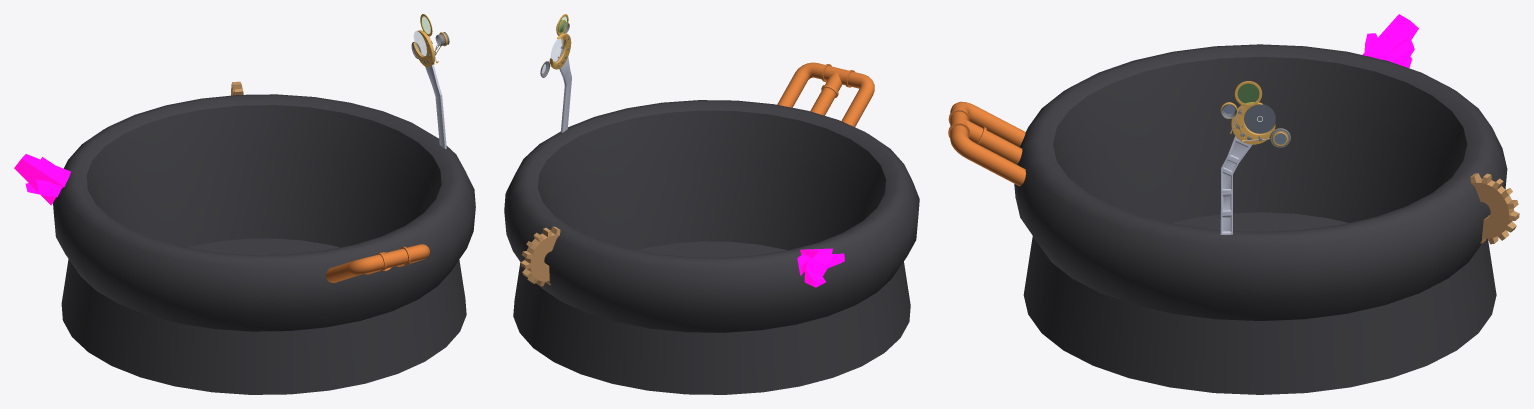
Rendered from GlobeCrateleWithStarscope.fbx.
3 views of the same model, side by side, from view 1: azimuth 30°, elevation 25°; view 2: azimuth 150°, elevation 25°; view 3: azimuth 270°, elevation 25° (orthographic). The views are drawn at different scales.
Parts seen in each view (by area): view 1: Cylinder.002, Plane, Cube.009, Cube.008; view 2: Cylinder.002, Plane, Cube.009, Cylinder.104, Cube.008; view 3: Cylinder.002, Plane, Cube.009, Cylinder.104, Cube.008.
Part boxes in pixels (x1,y1,x2,y2): Cylinder.002: (53, 94, 475, 394); Plane: (326, 244, 429, 282); Cube.009: (411, 14, 449, 148); Cube.008: (14, 154, 70, 205); Cylinder.002: (504, 100, 919, 394); Plane: (777, 62, 874, 126); Cube.009: (540, 14, 571, 132); Cylinder.104: (520, 226, 560, 286); Cube.008: (797, 248, 844, 287); Cylinder.002: (1014, 44, 1507, 394); Plane: (948, 101, 1025, 186); Cube.009: (1220, 81, 1290, 234); Cylinder.104: (1470, 173, 1519, 244); Cube.008: (1362, 14, 1418, 67).
Bounding box in the file's own units: 389 × 262 × 448.
